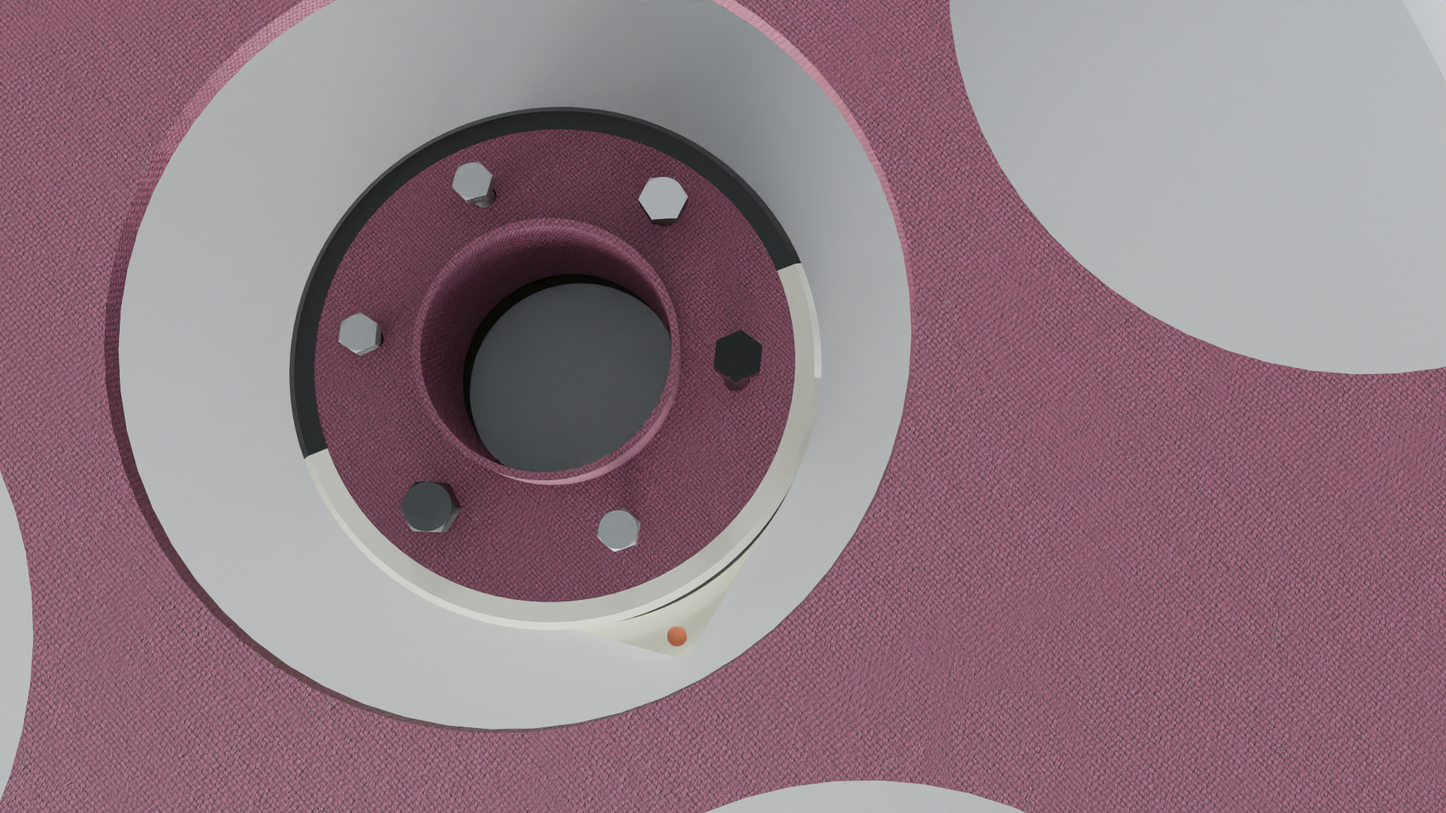bolt: (400, 482, 457, 532), (713, 330, 763, 382), (639, 177, 688, 220), (597, 507, 639, 552), (452, 161, 493, 200), (339, 312, 377, 353)
